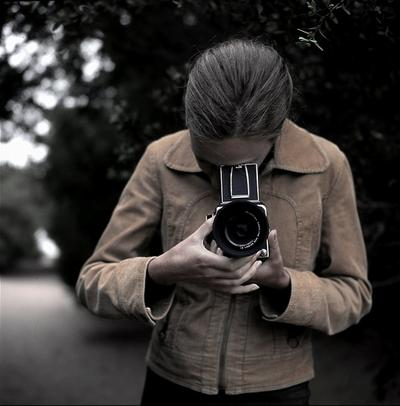person: (75, 40, 372, 406)
